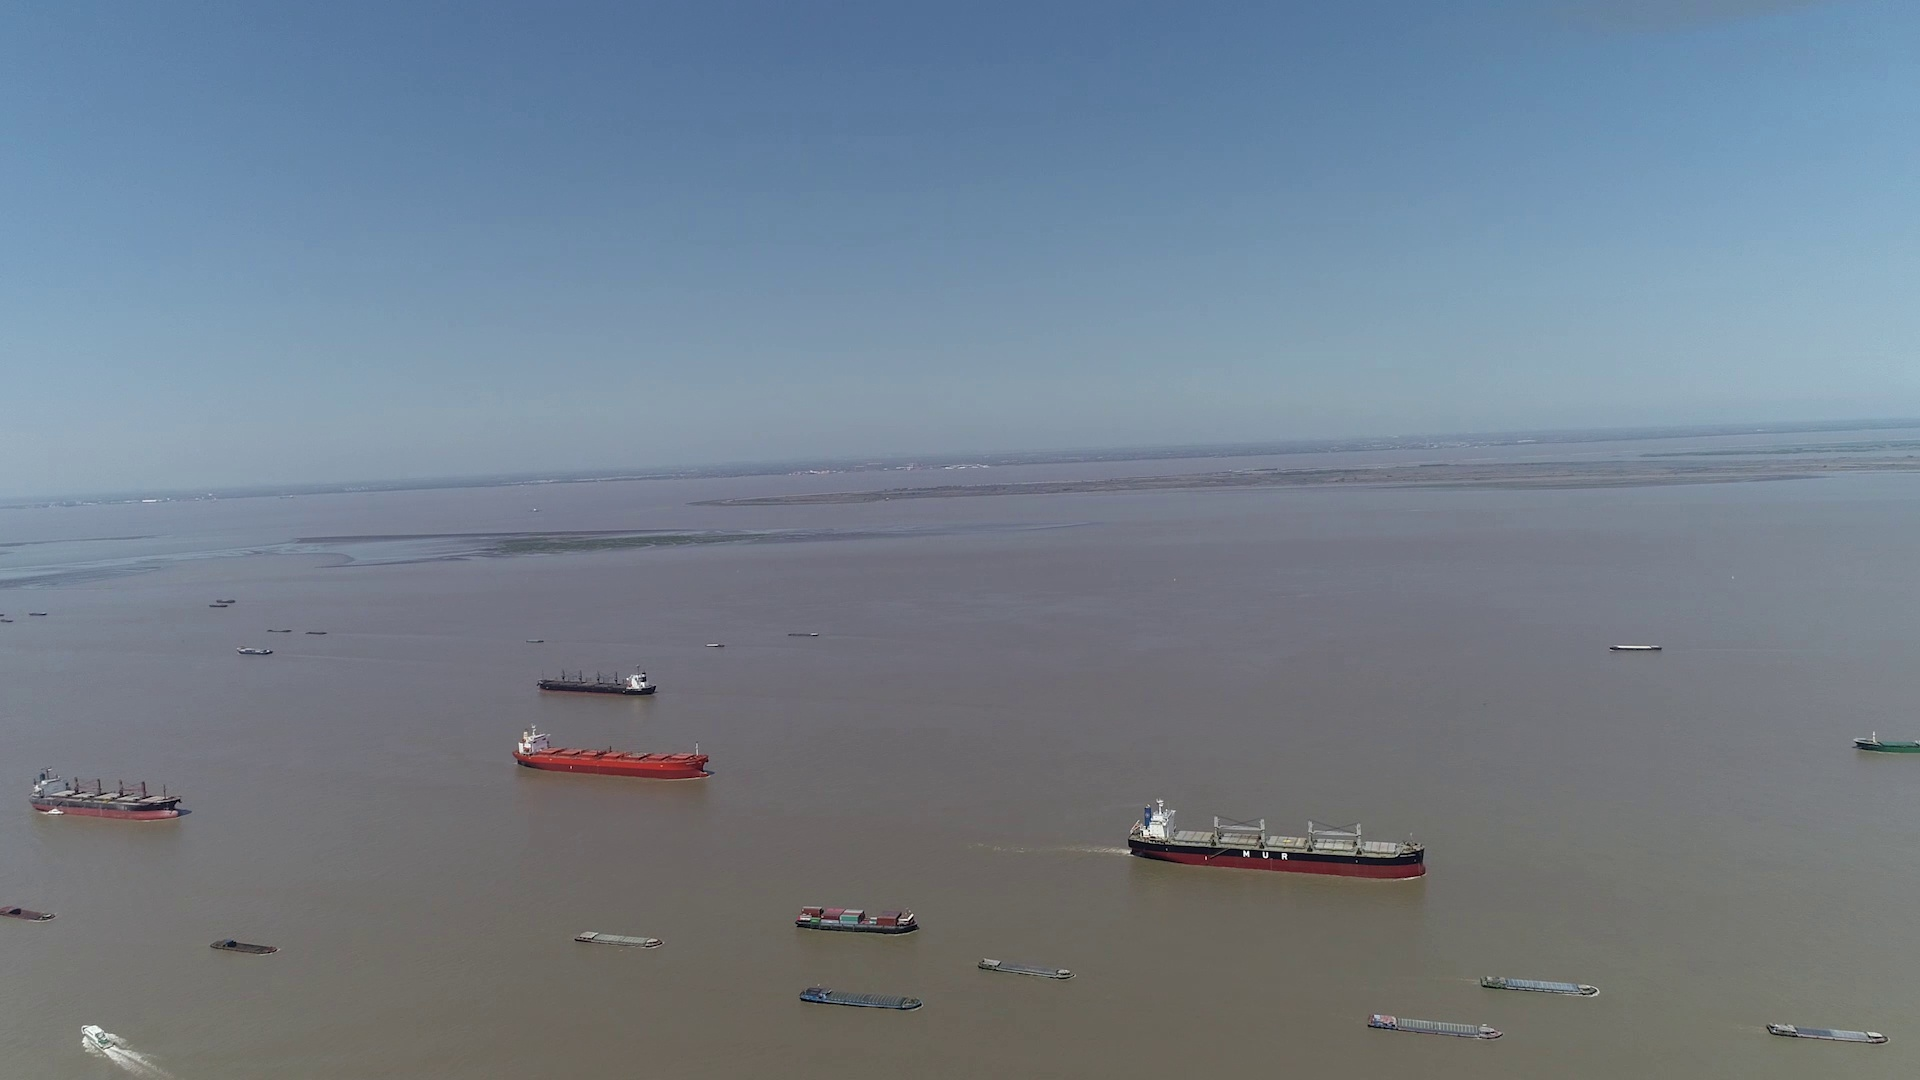ship: (1130, 799, 1423, 881), (513, 723, 705, 778), (514, 699, 687, 754), (30, 766, 186, 820), (1367, 1011, 1505, 1039), (794, 905, 918, 935), (535, 667, 655, 696), (800, 984, 923, 1009), (1766, 1021, 1888, 1044), (1480, 975, 1600, 998), (977, 956, 1073, 978), (574, 928, 667, 948), (1851, 731, 1919, 756), (80, 1021, 123, 1051), (210, 940, 276, 956), (0, 903, 51, 922), (1611, 642, 1662, 651), (237, 645, 276, 655)
